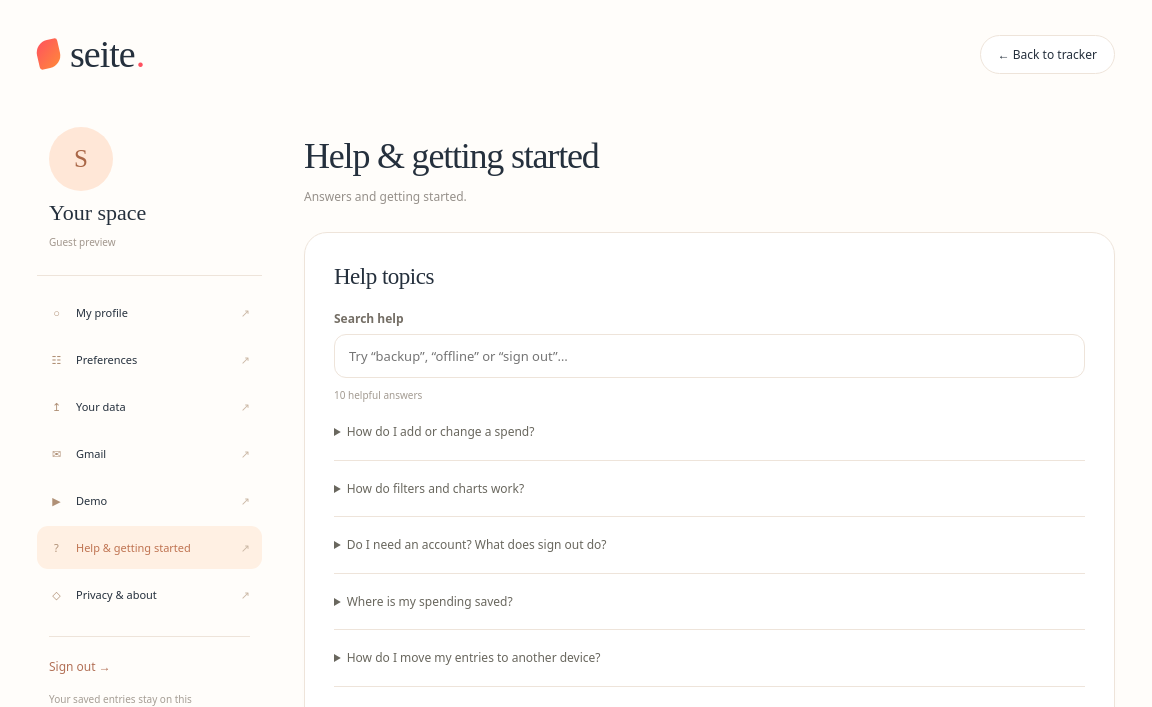
Scenario: account navigation › searches help and explains the actual local-only status
The width and height of the screenshot is (1152, 707).
Type "Gmail" into the search field labelled "Search help".
click(710, 356); type("Gmail")  # box [334,334,1085,378]
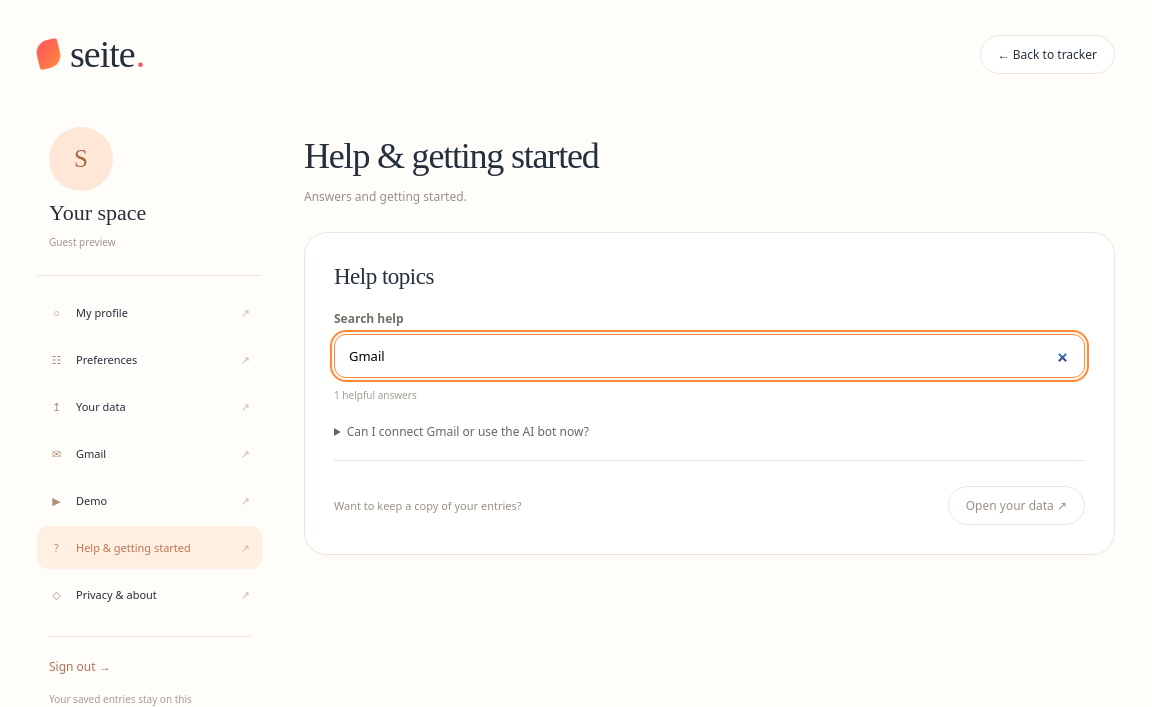
Click the heading "Can I connect Gmail or use the AI bot now?".
click(468, 432)  # box [347,423,589,440]
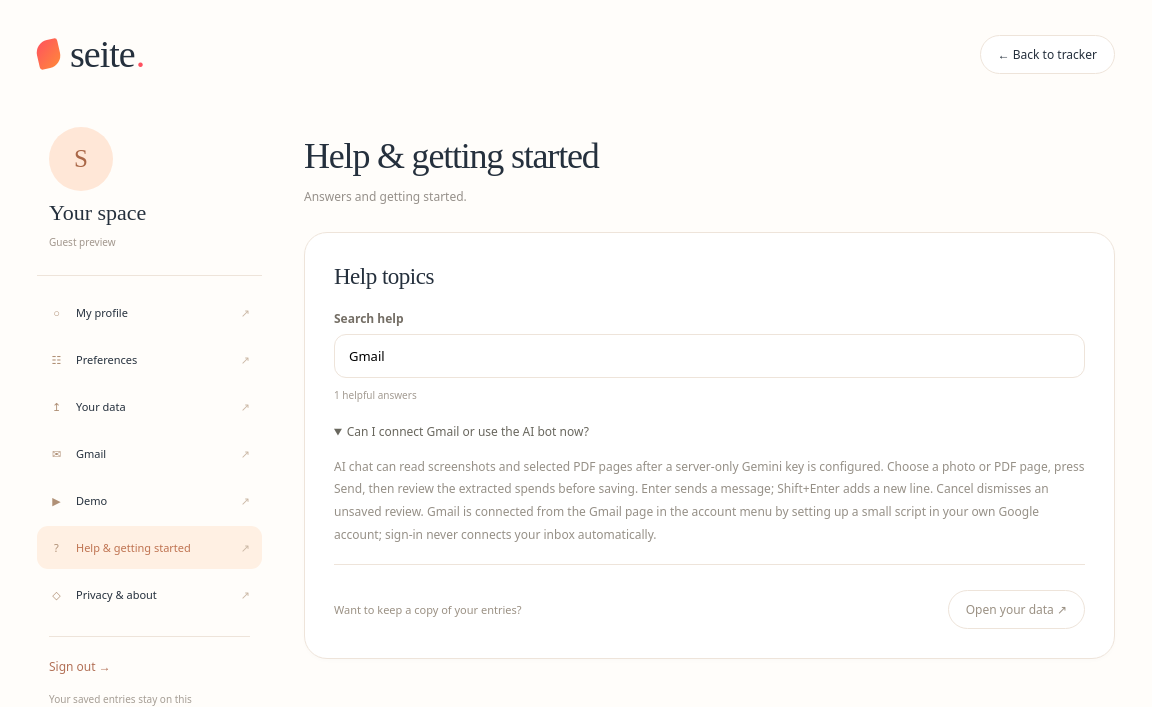
Expected: the text "Gmail is connected from the Gmail page" is shown, [334,458,1084,543]
